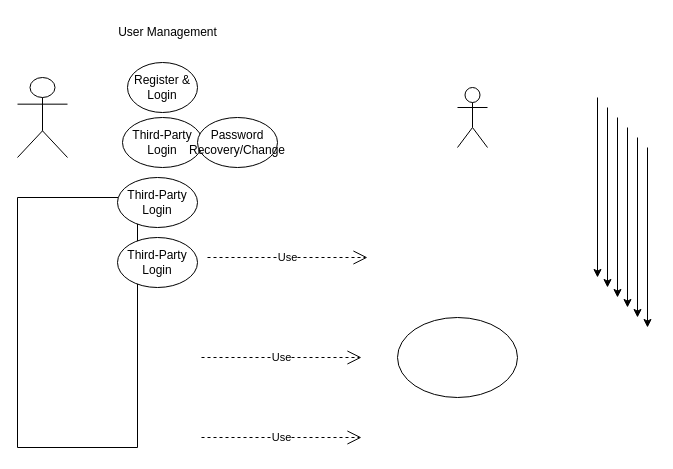
This 673x469 diagram has some shape labels left out. The shapes that lost their labels are listed below. From the top down, each one's centre as x and y in pixels, then its label:
At (42,117): "User".
At (472,117): "用户2".
